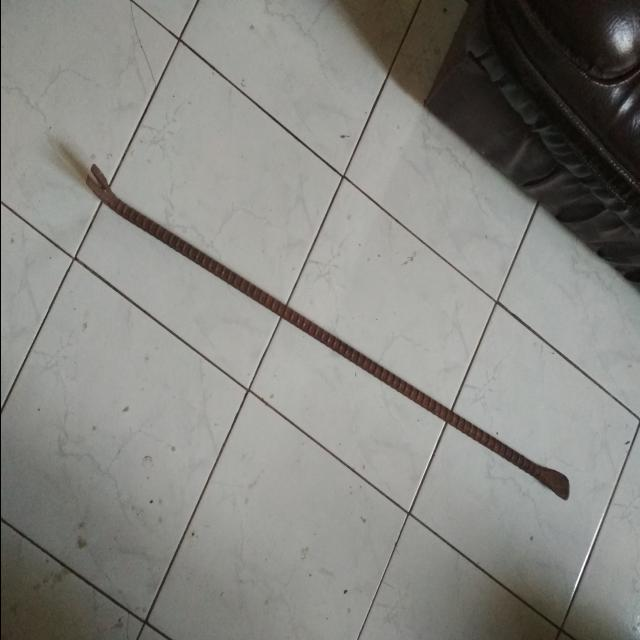Linggis: (80, 166, 571, 500)
